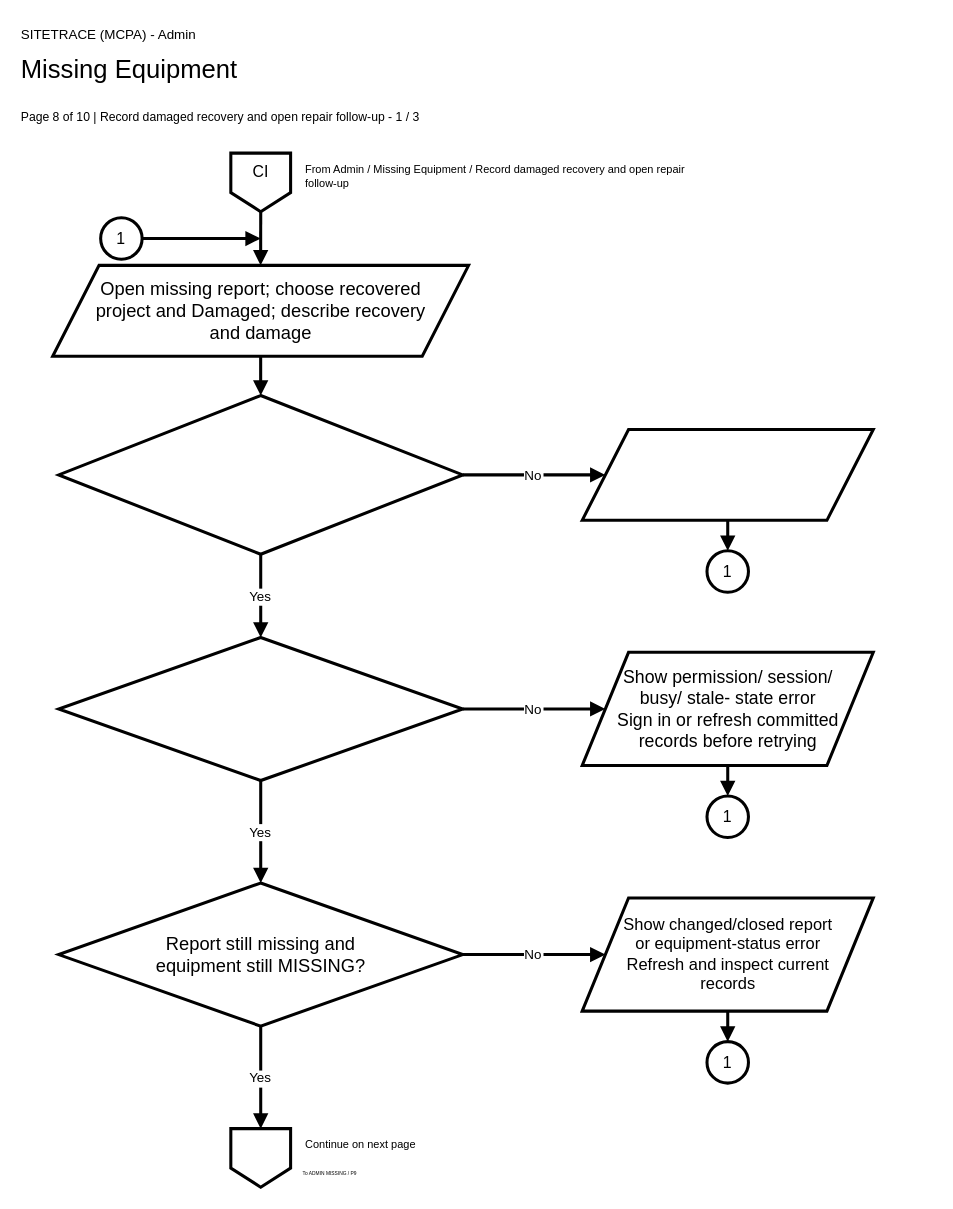
Some shapes in this 953 by 1209 pixel diagram are drawn without their labels. Here are the shapes that lost their labels. From the top down, the centre of each, then its label:
(260,474): Required fields valid and damage notes at most 2000 characters?
(727,474): Show missing/invalid field feedback Complete recovery details
(260,708): Live Admin session and save gate valid?
(260,1157): CN
